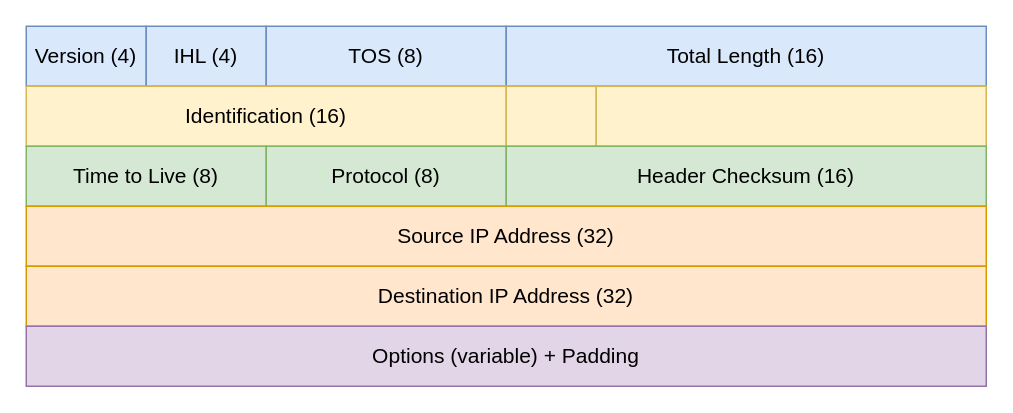
This 1013x413 diagram has some shape labels left out. Each missing label, with the box of its shape:
Flags (3): (505, 85, 596, 146)
Fragment Offset (13): (595, 85, 986, 146)
